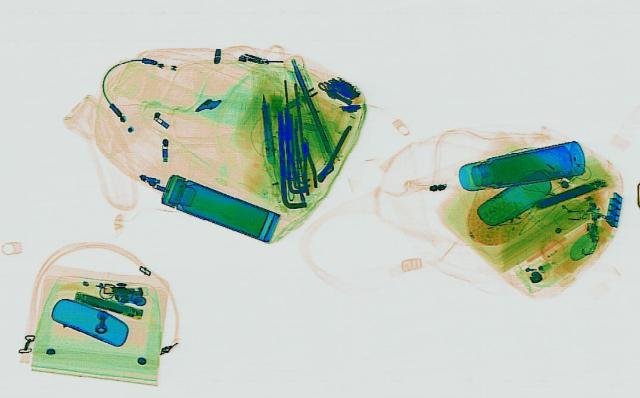Pliers: (292, 135, 318, 192)
Wrench: (313, 122, 355, 181)
